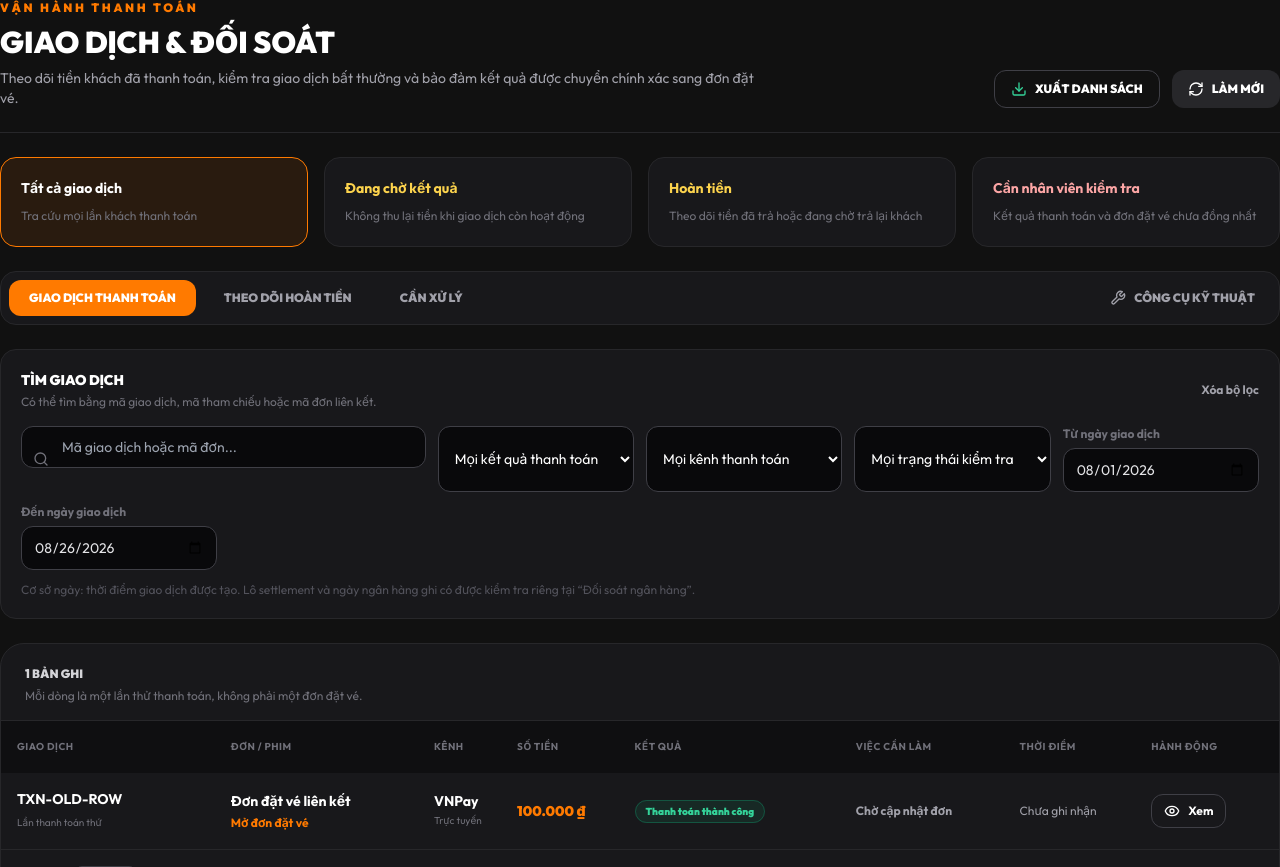
Test case: AdminPaymentsPage role operations › clears rows from the previous tab when an operation request fails
Expected: the text "TXN-OLD-ROW" is shown, [17,790,122,808]
Click the button "Công cụ kỹ thuật".
click(1183, 298)  # box [1094,280,1271,316]
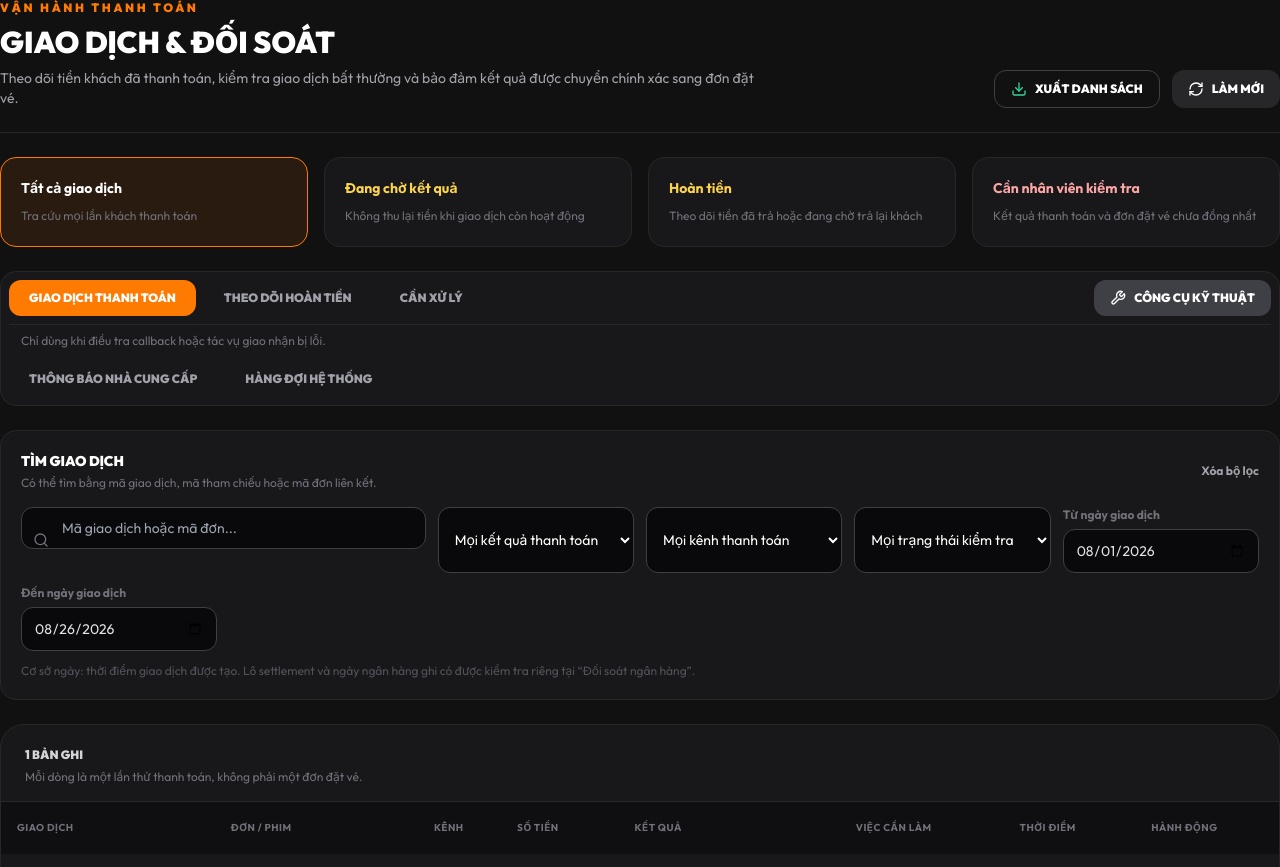
Click the button "Thông báo nhà cung cấp".
click(113, 379)  # box [9,361,217,397]
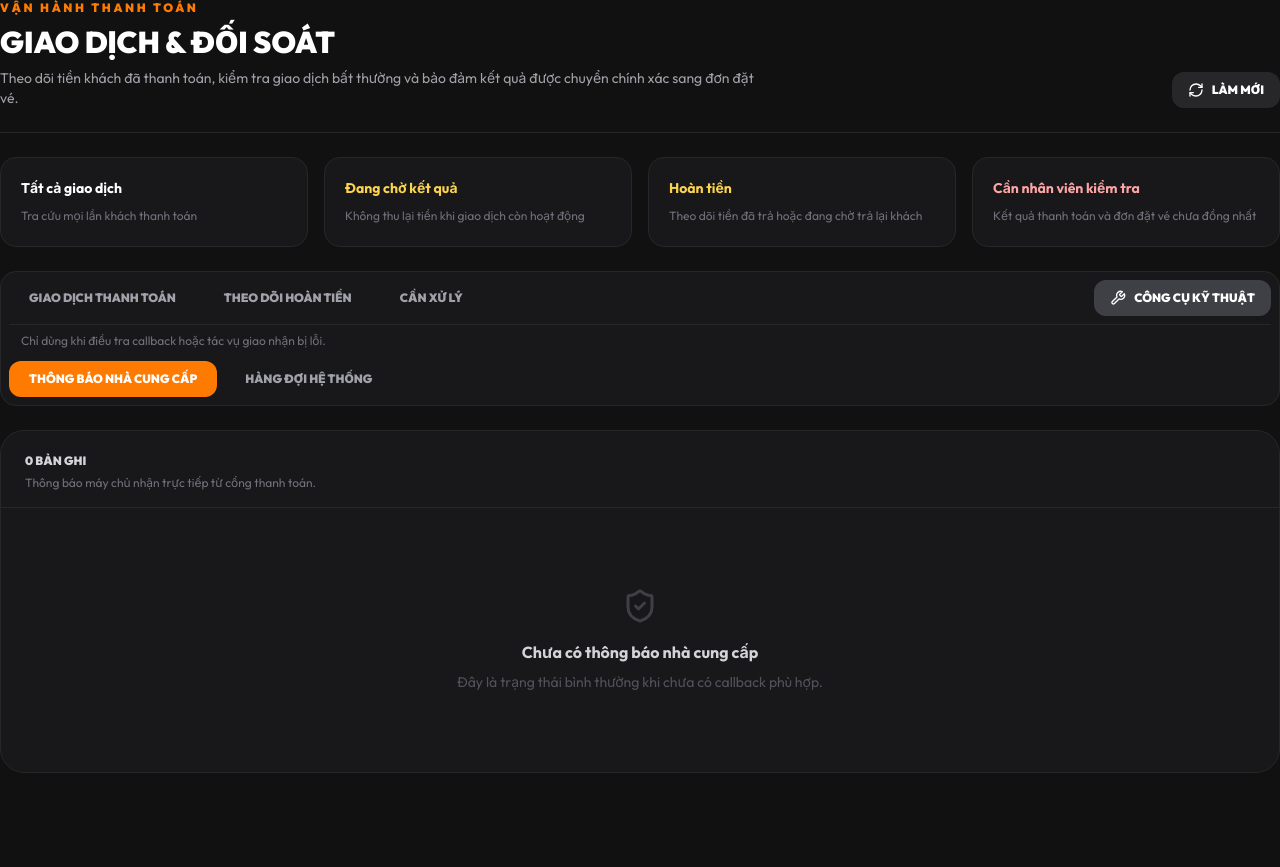
Now the text "Chưa có thông báo nhà cung cấp" is shown, box [522,640,758,664]
